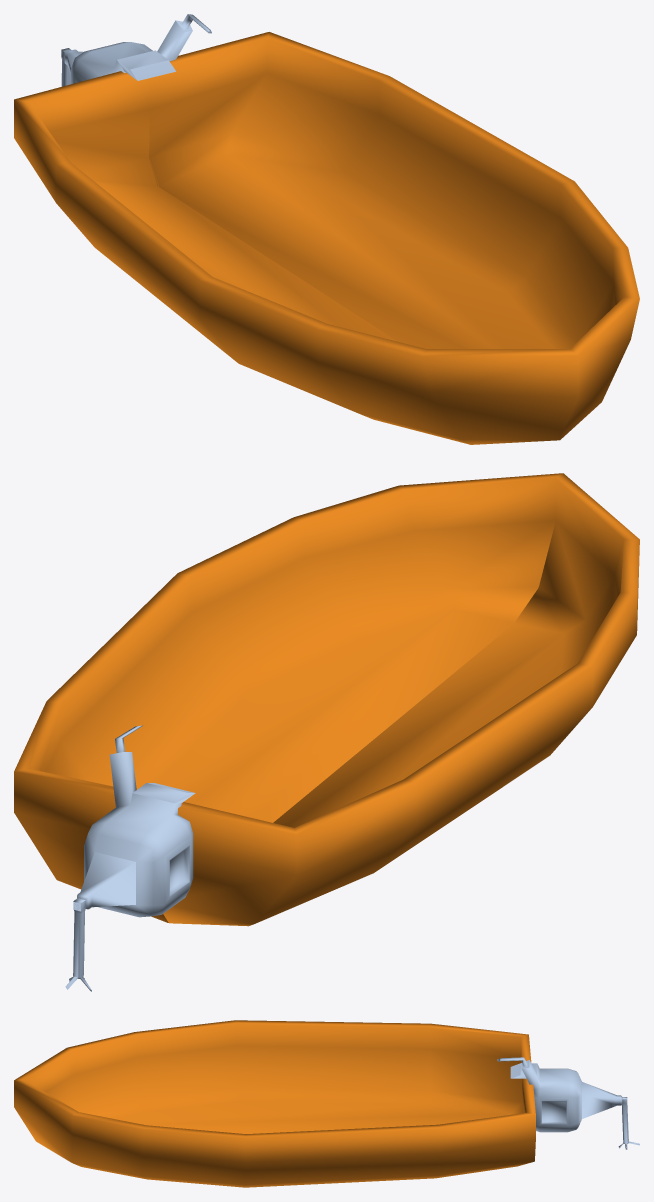
Rendered from perahu .fbx.
3 renders of one model, top to bottom at view 1: azimuth 30°, elevation 25°; view 2: azimuth 150°, elevation 25°; view 3: azimuth 270°, elevation 25°, orthographic. The views are drawn at different scales.
Parts seen in each view (by area): view 1: Plane, Cube; view 2: Plane, Cube; view 3: Plane, Cube.
Part boxes in pixels (box(x1,y1,x2,y2)): Plane: box(14, 32, 639, 444); Cube: box(61, 14, 211, 86); Plane: box(14, 473, 639, 926); Cube: box(65, 725, 195, 991); Plane: box(14, 1020, 535, 1187); Cube: box(497, 1057, 639, 1149).
Size of the model in its own units: 223 by 94.61 by 501.
